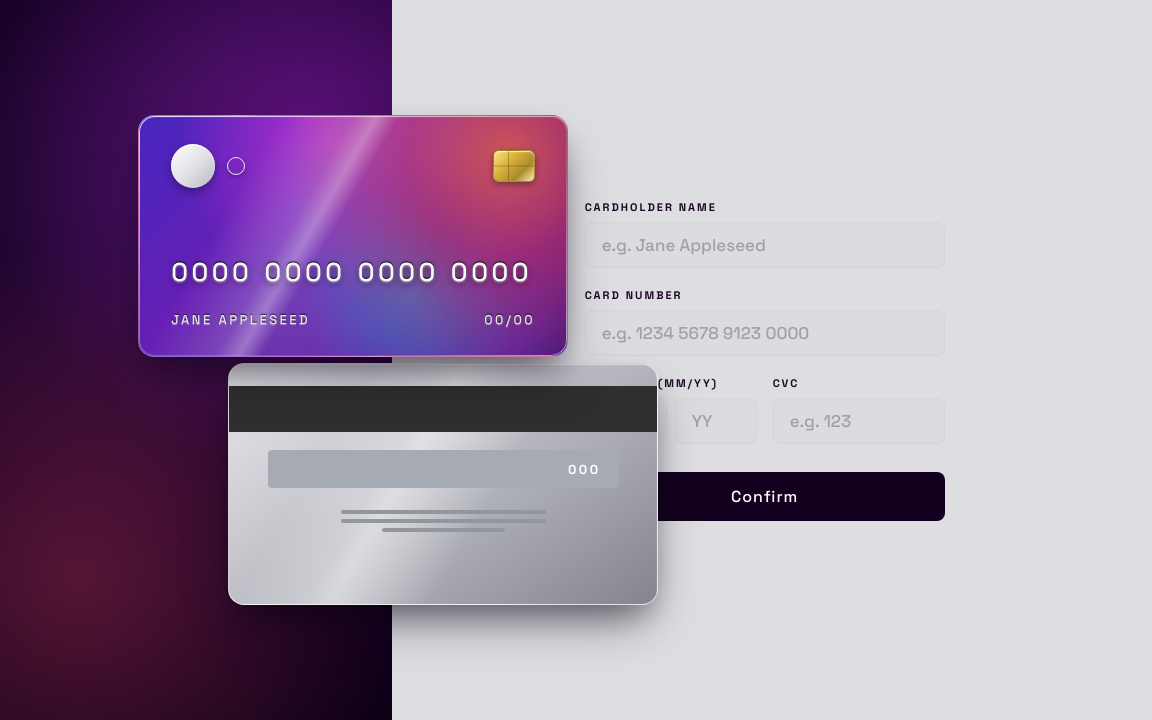
Test case: shows validation errors when submitting empty form
The image size is (1152, 720).
Click the button "Confirm".
click(765, 496)  # box [585,472,945,520]
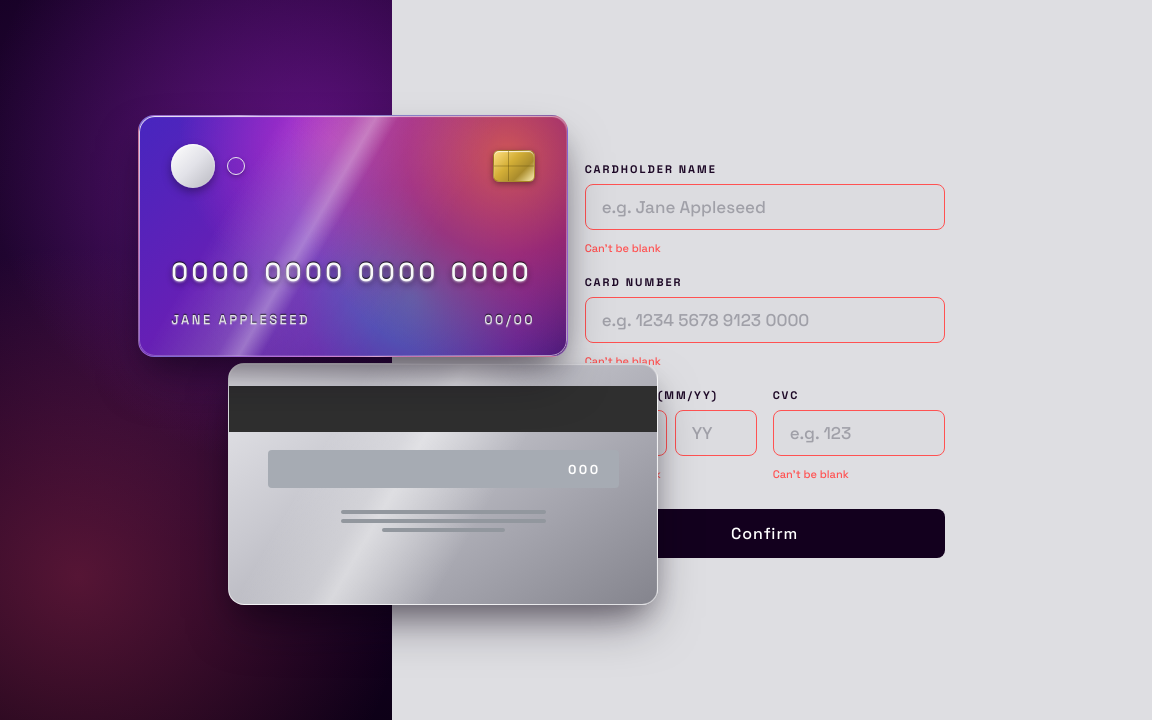
Expected: the text "Can't be blank" below "CARDHOLDER NAME" is shown, [585,241,661,255]
